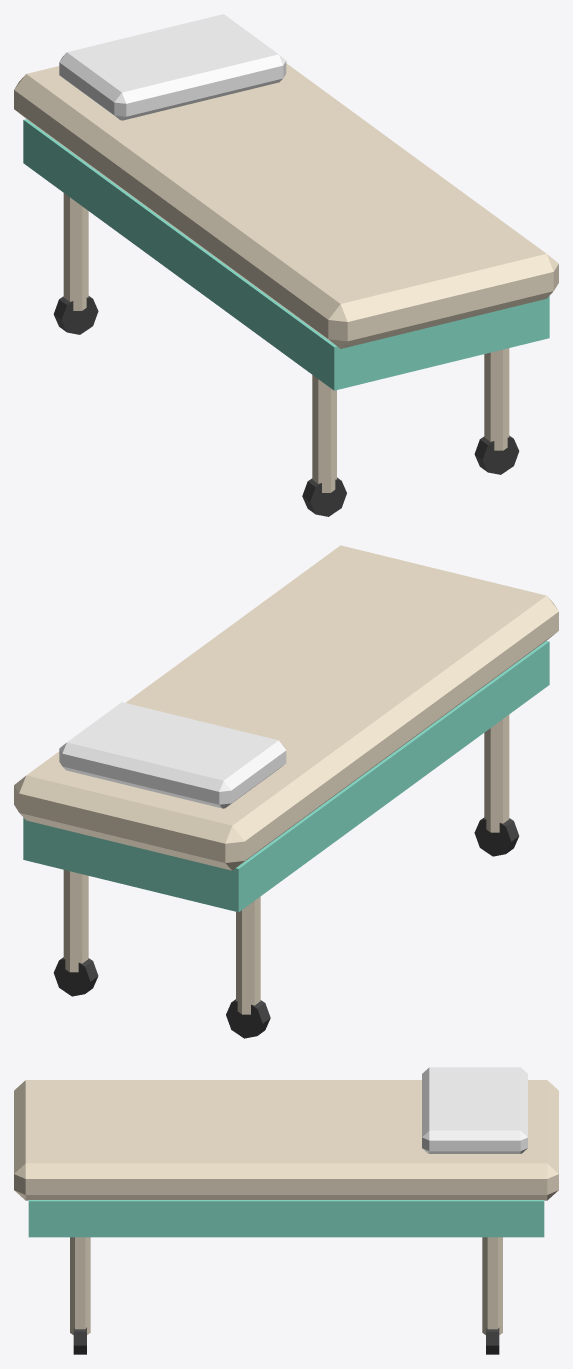
The picture shows the model from 3 angles, top to bottom: view 1: azimuth 30°, elevation 25°; view 2: azimuth 150°, elevation 25°; view 3: azimuth 270°, elevation 25°; orthographic projection. The views are drawn at different scales.
Parts seen in each view (by area): view 1: Mattress, Base, Pillow, Mattress support, Leg.001, Leg, Leg.002, Wheel.002, Wheel.001, Wheel; view 2: Mattress, Base, Pillow, Mattress support, Leg, Leg.001, Leg.003, Wheel, Wheel.003, Wheel.001; view 3: Mattress, Base, Pillow, Mattress support, Leg.002, Leg.003, Wheel.002, Wheel.003.
Boxes of the visible parts, x1=… form: Mattress: x1=14, y1=63, x2=558, y2=348; Base: x1=23, y1=131, x2=549, y2=390; Pillow: x1=59, y1=14, x2=286, y2=120; Mattress support: x1=23, y1=119, x2=549, y2=359; Leg.001: x1=63, y1=193, x2=88, y2=310; Leg: x1=312, y1=375, x2=336, y2=492; Leg.002: x1=484, y1=348, x2=509, y2=450; Wheel.002: x1=474, y1=435, x2=519, y2=474; Wheel.001: x1=53, y1=296, x2=98, y2=334; Wheel: x1=302, y1=477, x2=346, y2=516; Mattress: x1=14, y1=545, x2=558, y2=870; Base: x1=23, y1=653, x2=549, y2=912; Pillow: x1=59, y1=702, x2=286, y2=808; Mattress support: x1=23, y1=641, x2=549, y2=880; Leg: x1=484, y1=715, x2=509, y2=832; Leg.001: x1=236, y1=896, x2=260, y2=1014; Leg.003: x1=63, y1=870, x2=88, y2=972; Wheel: x1=474, y1=817, x2=519, y2=856; Wheel.003: x1=53, y1=957, x2=98, y2=996; Wheel.001: x1=226, y1=999, x2=270, y2=1038; Mattress: x1=14, y1=1080, x2=558, y2=1200; Base: x1=28, y1=1210, x2=544, y2=1237; Pillow: x1=422, y1=1067, x2=527, y2=1153; Mattress support: x1=28, y1=1200, x2=544, y2=1211; Leg.002: x1=70, y1=1237, x2=90, y2=1334; Leg.003: x1=482, y1=1237, x2=502, y2=1334; Wheel.002: x1=73, y1=1327, x2=86, y2=1354; Wheel.003: x1=486, y1=1327, x2=499, y2=1354.
Bounding box in the file's own units: 75 × 82.5 × 185.
